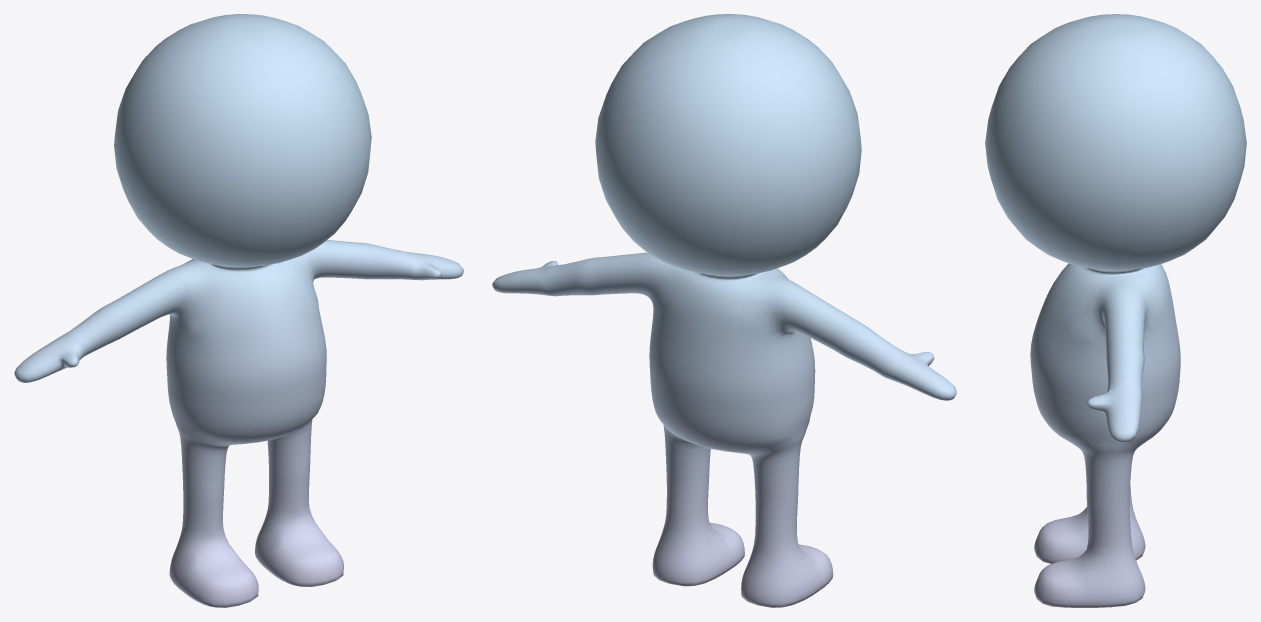
The model's file is Sticky.fbx.
3 renders of one model, left to right at view 1: azimuth 30°, elevation 25°; view 2: azimuth 150°, elevation 25°; view 3: azimuth 270°, elevation 25°, orthographic. The views are drawn at different scales.
Parts seen in each view (by area): view 1: stickman4; view 2: stickman4; view 3: stickman4.
Part boxes in pixels (left/top/right/bottom): stickman4: left=14, top=14, right=463, bottom=607; stickman4: left=492, top=14, right=956, bottom=607; stickman4: left=985, top=14, right=1246, bottom=607.
Bounding box in the file's own units: 43.32 × 50.28 × 21.75.
